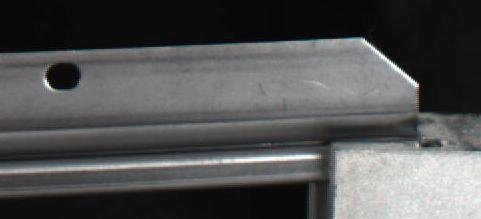cut: (309, 34, 424, 177)
holes: (43, 60, 83, 90)
